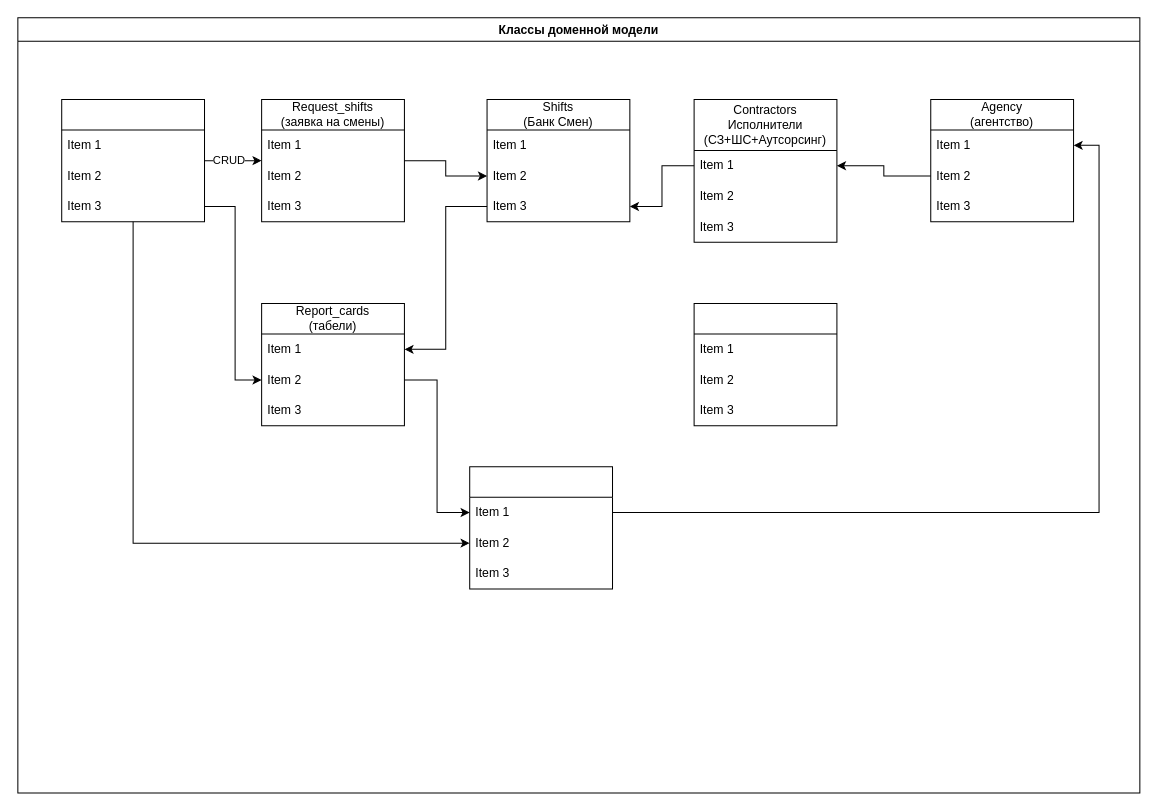
Image size: 1158x811. Some labels were removed from this diagram. Here are the shapes that lost their labels. From the top down, the box of each, then its label:
(61, 98, 205, 222): Shops (магазины)
(693, 302, 837, 426): Adress (адреса)
(469, 466, 613, 589): Payment (оплата)
